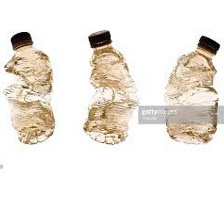bottle: (156, 22, 224, 148), (80, 26, 146, 148), (2, 29, 57, 147)
